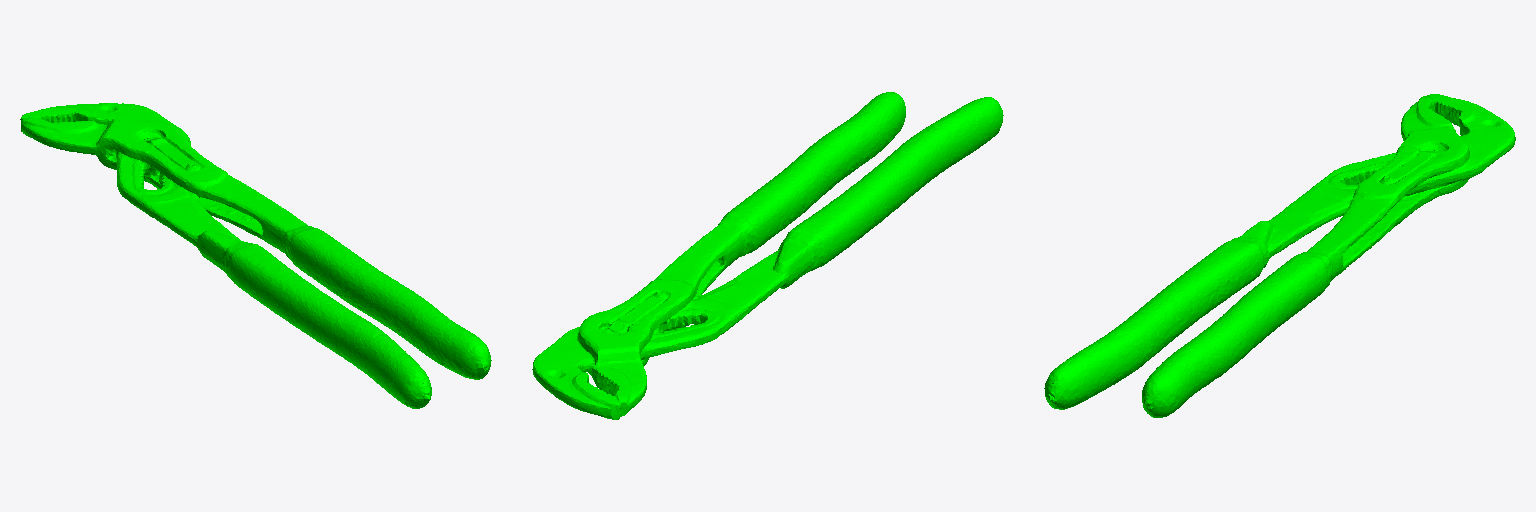
robot.urdf — block:

    <robot name="block">
      <link name="block_base_link">
        <inertial>
            <origin rpy="0 0 0" xyz="0 0 0"/>
            <mass value="0.1"/>
            <inertia ixx="0.1" ixy="0" ixz="0" iyy="0.1" iyz="0" izz="0.1"/>
        </inertial>
        
        <visual>
          <origin rpy="0 0 0" xyz="0 0 0"/>
          <geometry>
            <mesh filename="dataset/toolbox_cad/tn/hammer/02_raw.obj" scale="1 1 1"/>
          </geometry>
            <material name="0_1_0_1">
                <color rgba="0 1 0 1"/>
            </material>
        </visual>

        
        <collision>
          <origin rpy="0 0 0" xyz="0 0 0"/>
          <geometry>
            <mesh filename="dataset/toolbox_cad/tn/hammer/02_raw.obj" scale="1 1 1"/>
          </geometry>
            <material>
                <color rgba="0 1 0 1"/>
            </material>
        </collision>

      </link>
    </robot>

--- What the picture shows (computed from the rendered views, not written in the file) ---
Views: 3 orthographic renders of the robot side by side, from view 1: azimuth 30°, elevation 25°; view 2: azimuth 150°, elevation 25°; view 3: azimuth 330°, elevation 25°.
Robot: block — 1 links, 0 joints (none); root link block_base_link; default pose: all joints at 0.
Links seen in each view (by area): view 1: block_base_link; view 2: block_base_link; view 3: block_base_link.
Link boxes in pixels (x1,y1,x2,y2): block_base_link: (20,103,491,408); block_base_link: (532,92,1003,419); block_base_link: (1044,94,1515,417).
Size in the robot's own frame: 0.031 by 0.18 by 0.0116 metres.
Meshes: 1 distinct files referenced, 1 mesh visuals loaded (1 OBJ).
